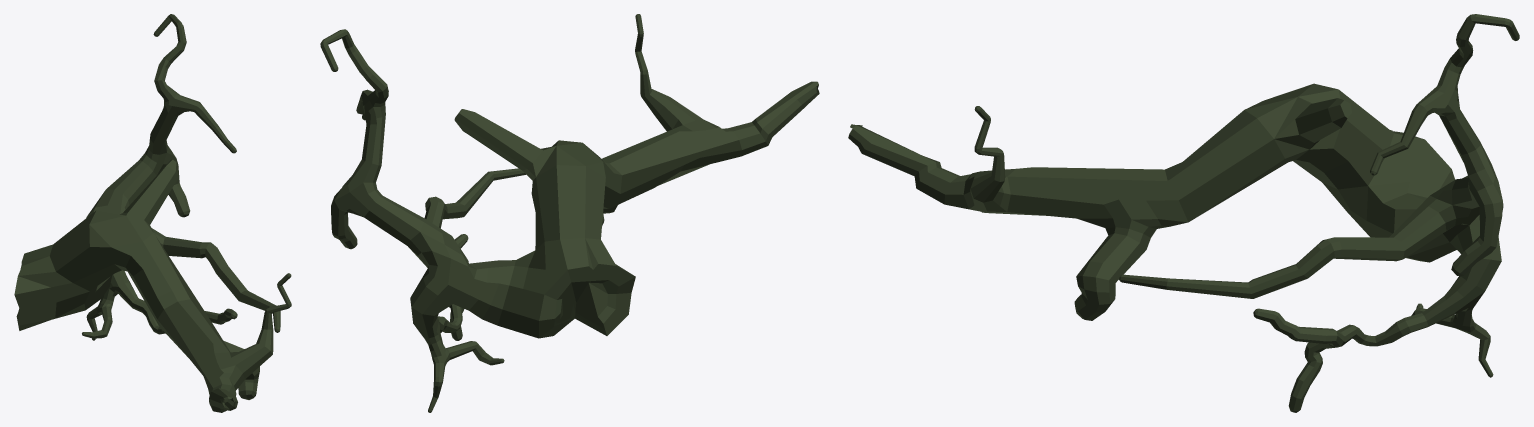
The model's file is EA_Swamp_Root_01d.glb.
The picture shows the model from 3 angles, left to right: view 1: azimuth 30°, elevation 25°; view 2: azimuth 150°, elevation 25°; view 3: azimuth 270°, elevation 25°; orthographic projection. The views are drawn at different scales.
Parts seen in each view (by area): view 1: EA_Swamp_Root_01d; view 2: EA_Swamp_Root_01d; view 3: EA_Swamp_Root_01d.
Part boxes in pixels (<box>): EA_Swamp_Root_01d: <box>14,14,291,412</box>; EA_Swamp_Root_01d: <box>320,14,819,412</box>; EA_Swamp_Root_01d: <box>848,14,1519,412</box>.
Size of the model in its own units: 3.35 by 4.3 by 6.23.
1 material, 1 textured.
